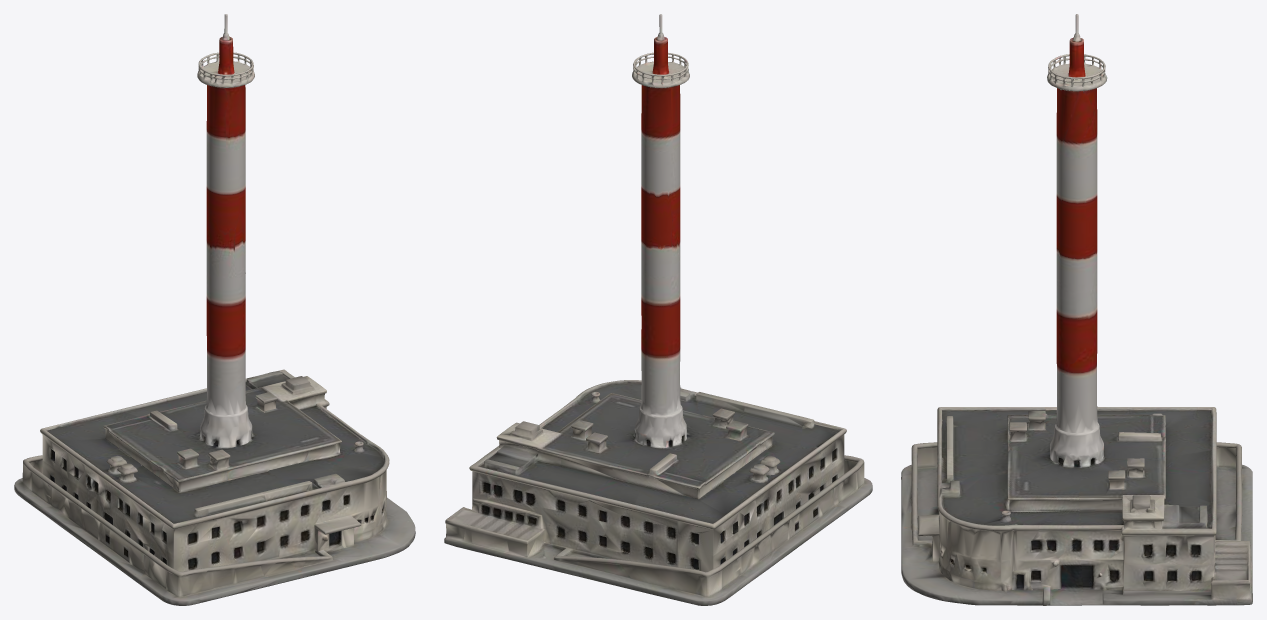
File: ventoux-summit.glb
3 renders of one model, left to right at view 1: azimuth 30°, elevation 25°; view 2: azimuth 150°, elevation 25°; view 3: azimuth 270°, elevation 25°, orthographic. The views are drawn at different scales.
Visible parts, largest first — view 1: tripo_node_7e3aab13-7ed1-4019-a83d-daf74183f036; view 2: tripo_node_7e3aab13-7ed1-4019-a83d-daf74183f036; view 3: tripo_node_7e3aab13-7ed1-4019-a83d-daf74183f036.
Part boxes in pixels (bbox=[...]): tripo_node_7e3aab13-7ed1-4019-a83d-daf74183f036: bbox=[14, 14, 415, 605]; tripo_node_7e3aab13-7ed1-4019-a83d-daf74183f036: bbox=[444, 14, 872, 605]; tripo_node_7e3aab13-7ed1-4019-a83d-daf74183f036: bbox=[901, 14, 1252, 605].
Size of the model in its own units: 0.5683 by 0.9999 by 0.609.
Materials: 1 (1 with a texture image).
